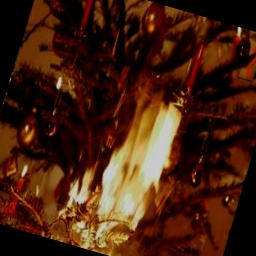fire: (50, 71, 198, 254)
